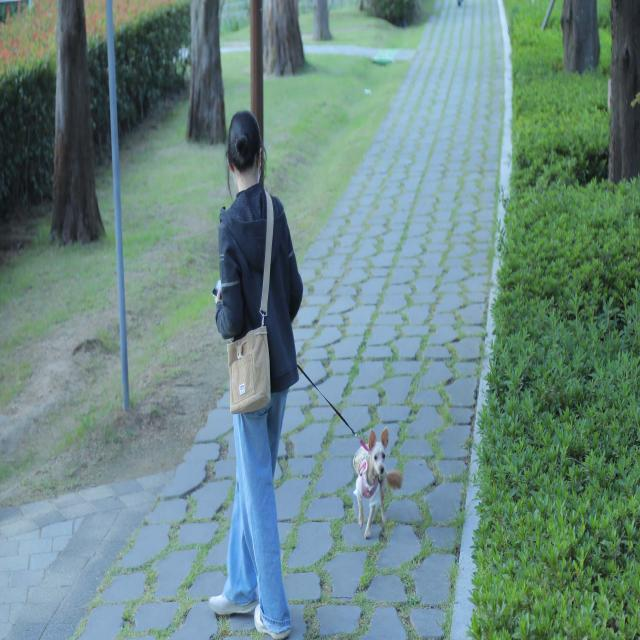Leashed_Dog: (255, 367, 403, 540)
